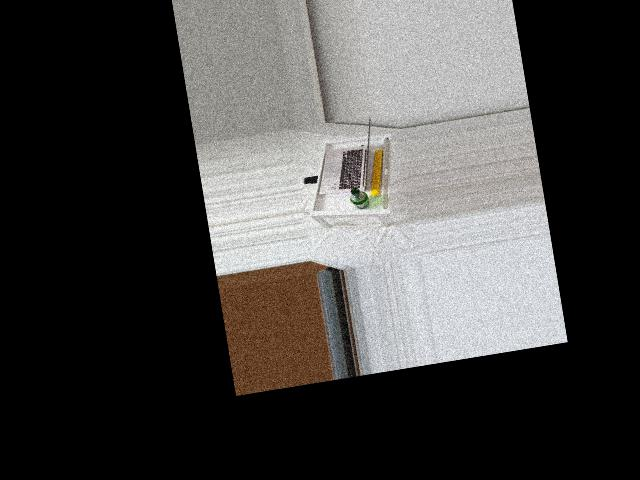beer: (348, 186, 370, 211)
